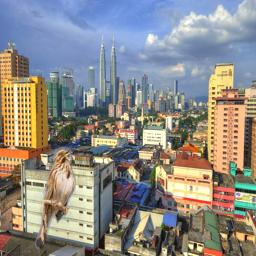Sparrow: (35, 146, 76, 251)
